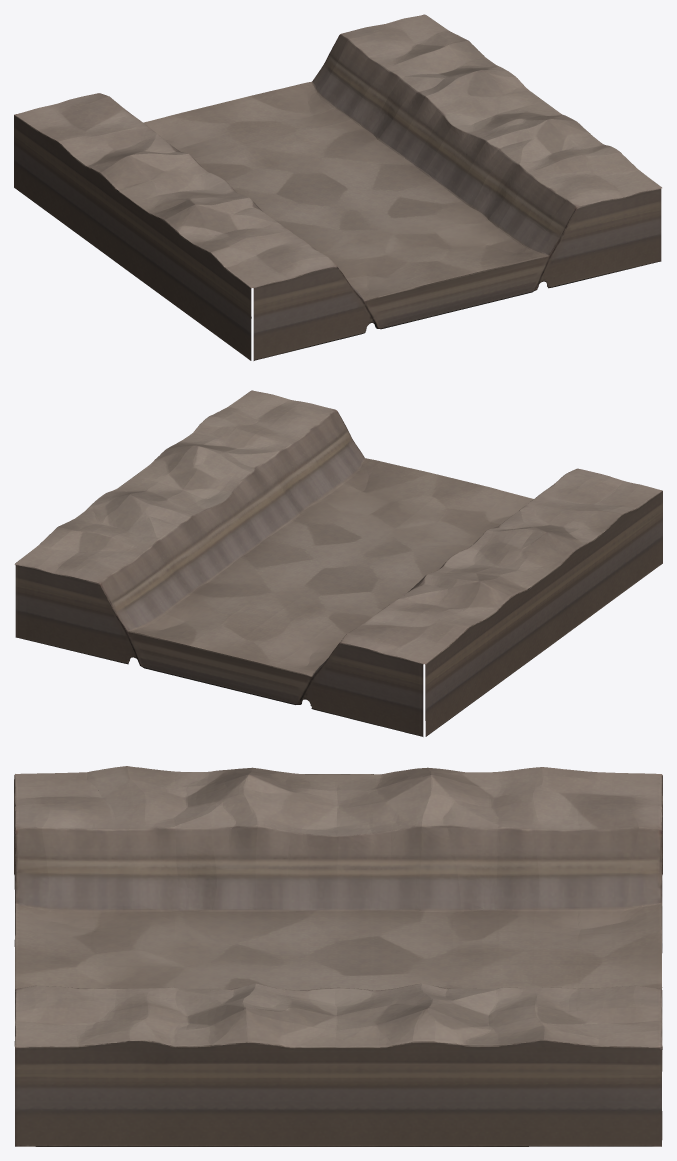
3 views of the same model, one above another, from view 1: azimuth 30°, elevation 25°; view 2: azimuth 150°, elevation 25°; view 3: azimuth 270°, elevation 25° (orthographic). The views are drawn at different scales.
Parts seen in each view (by area): view 1: world; view 2: world; view 3: world.
Boxes of the visible parts, <box> form: world: <box>14,14,661,360</box>; world: <box>14,390,662,736</box>; world: <box>14,766,662,1146</box>.
Bounding box in the file's own units: 1 × 0.2033 × 1.
Materials: 1 (1 with a texture image).
